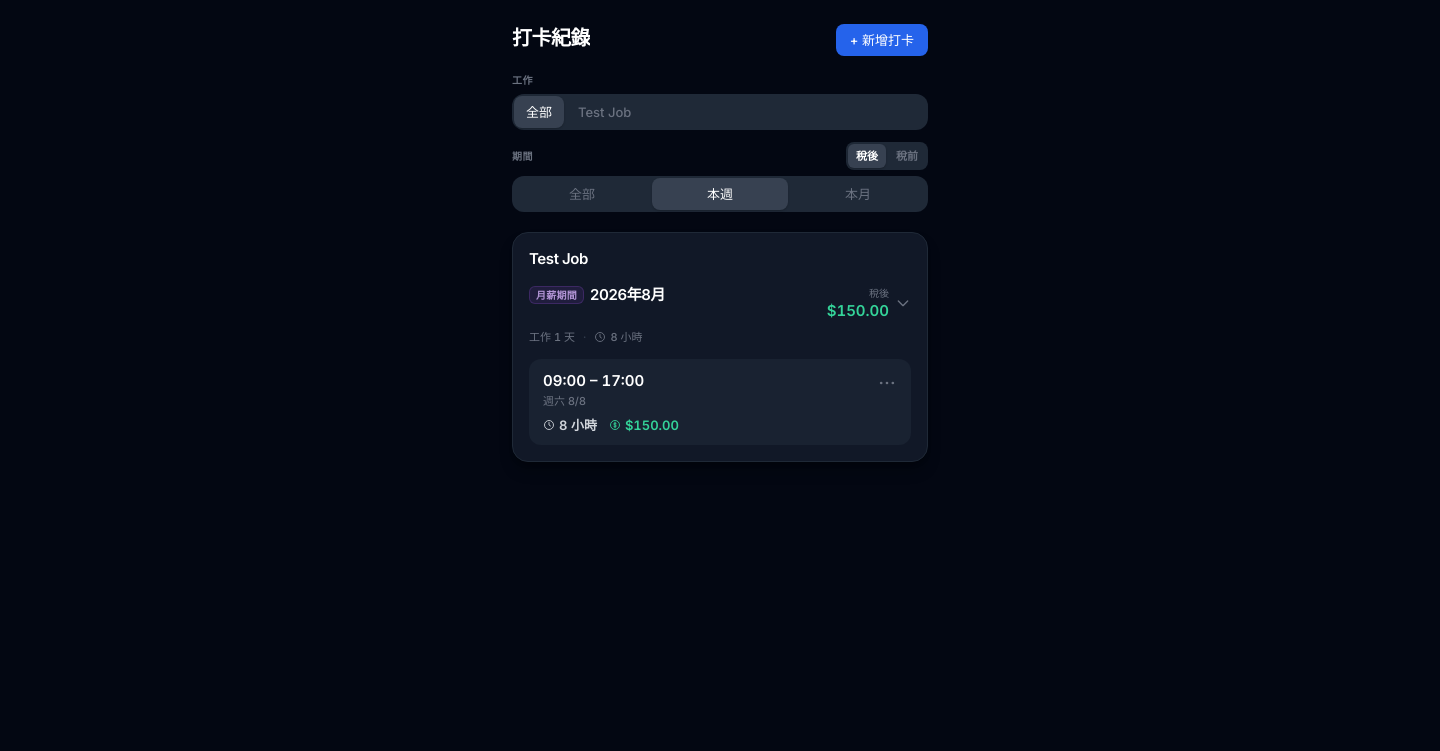
RecordsPage — 編輯紀錄休息欄位 › 抽成制工作的紀錄，編輯時不顯示休息欄位、改顯示業績欄位
The width and height of the screenshot is (1440, 751).
Click the button named "更多操作" at (887, 383), box top-left (869, 365), bottom-right (905, 401)
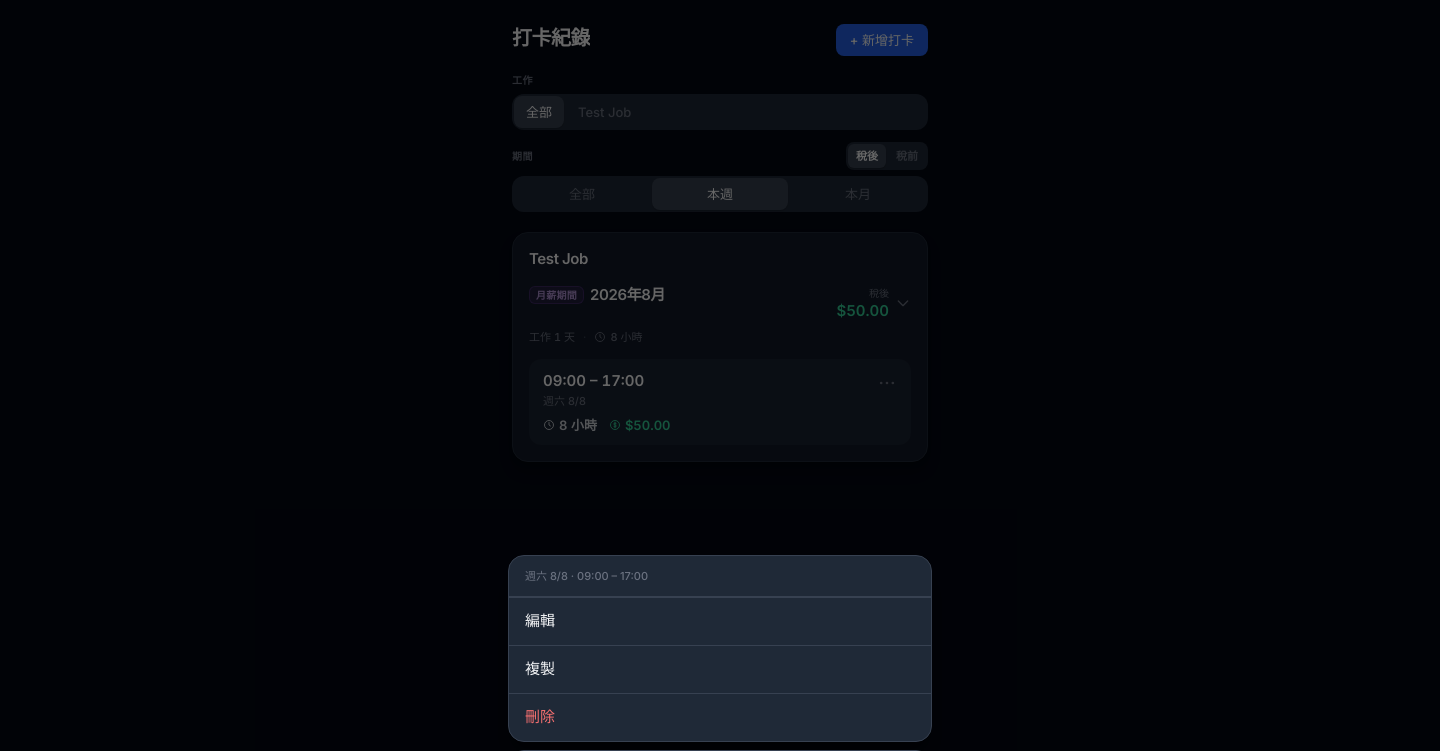
Click the button "編輯" at (540, 621), box top-left (509, 597), bottom-right (931, 645)
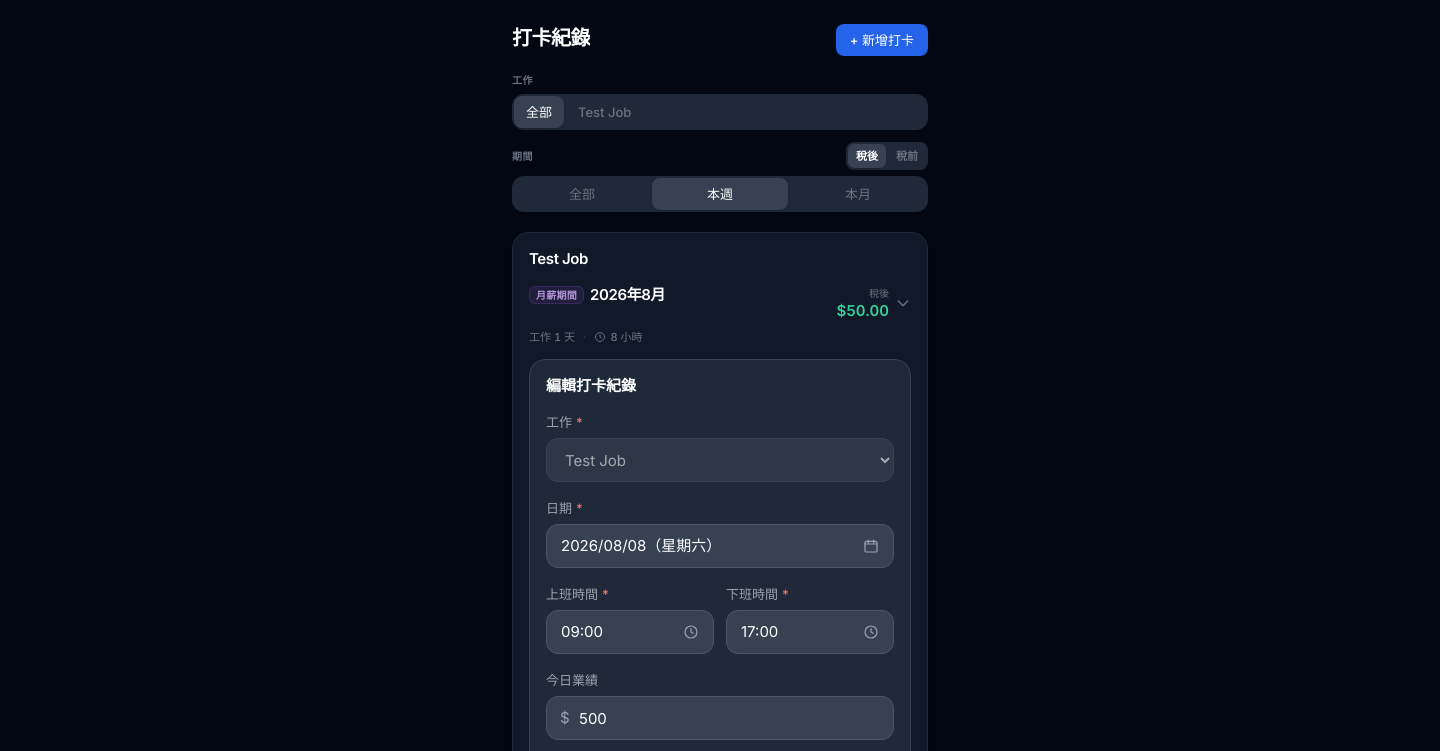
Expected: the text "今日業績" is shown, top-left (546, 672), bottom-right (598, 688)
